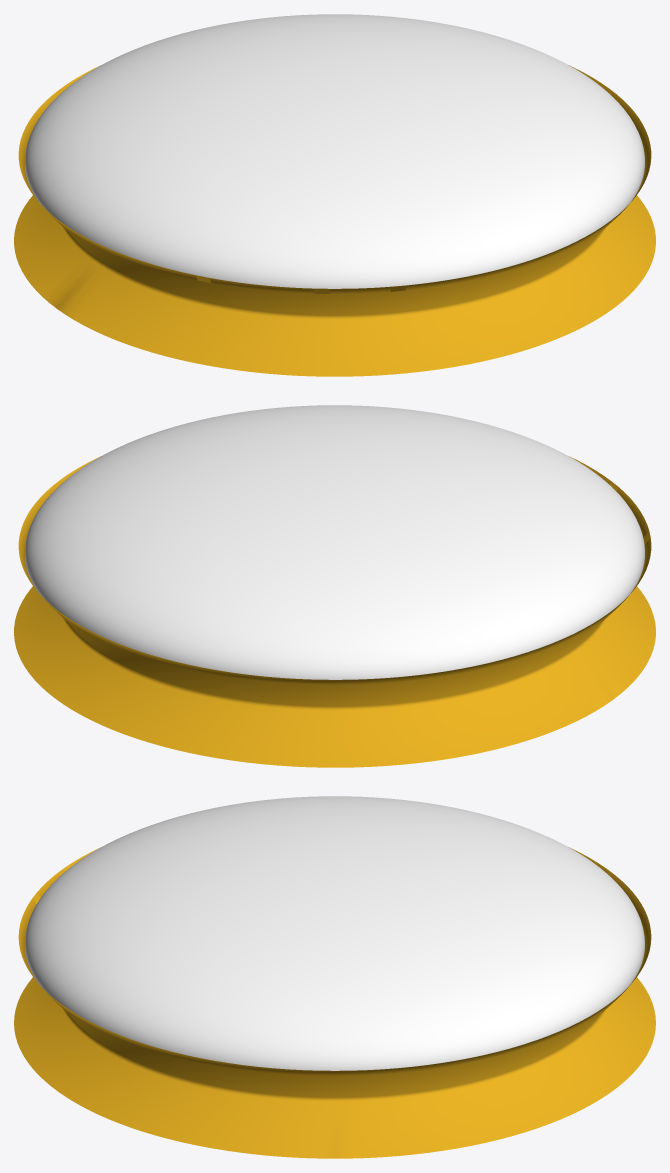
File: The Dome.fbx
3 views of the same model, one above another, from view 1: azimuth 30°, elevation 25°; view 2: azimuth 150°, elevation 25°; view 3: azimuth 270°, elevation 25° (orthographic).
Parts seen in each view (by area): view 1: Stadium; view 2: Stadium; view 3: Stadium.
Part boxes in pixels (left/top/right/bottom): Stadium: left=14, top=14, right=655, bottom=376; Stadium: left=14, top=405, right=655, bottom=767; Stadium: left=14, top=796, right=655, bottom=1158.
Bounding box in the file's own units: 37260 × 9500 × 37260.
